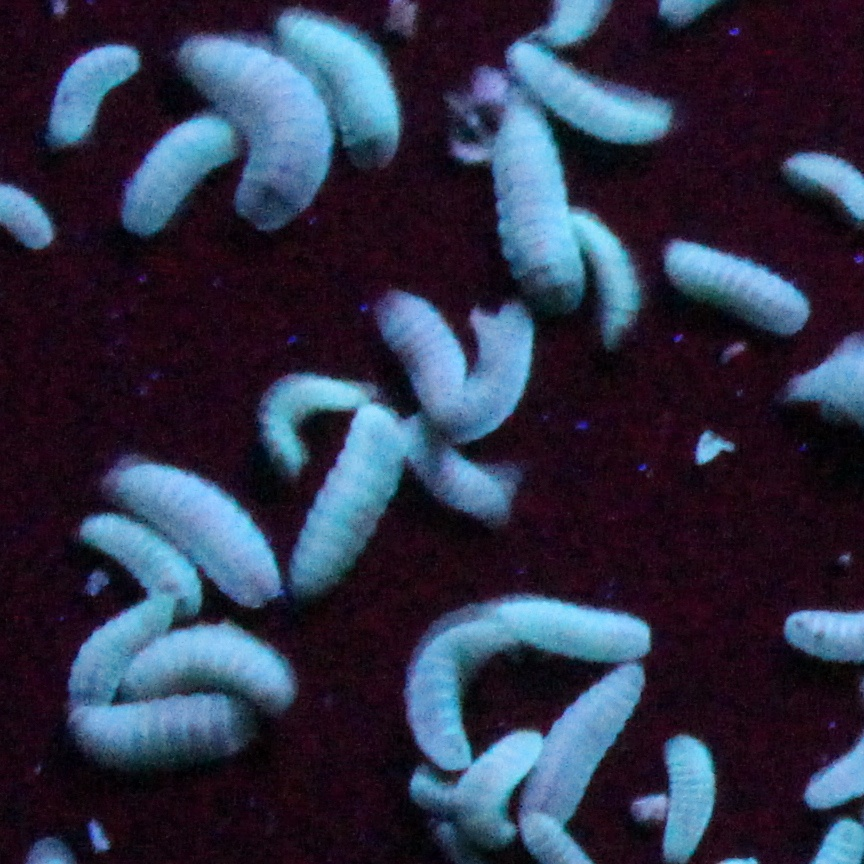larve: (173, 44, 342, 218), (487, 95, 602, 301), (273, 421, 396, 595), (513, 46, 688, 149), (536, 669, 650, 824), (142, 459, 265, 598), (287, 12, 393, 149), (662, 232, 807, 332), (379, 432, 516, 529), (125, 632, 293, 704), (78, 516, 201, 613), (50, 598, 173, 692), (416, 626, 502, 758), (116, 124, 236, 218), (39, 35, 142, 144), (370, 289, 459, 412), (456, 729, 542, 852), (456, 298, 533, 432), (242, 378, 365, 452), (576, 203, 635, 352), (67, 709, 247, 752), (656, 741, 716, 861), (496, 609, 648, 655)
